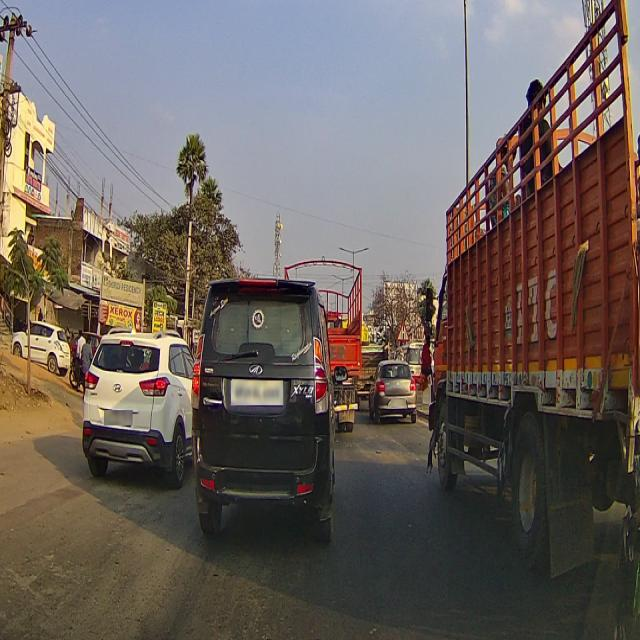gap-in-median: (397, 319, 408, 341)
